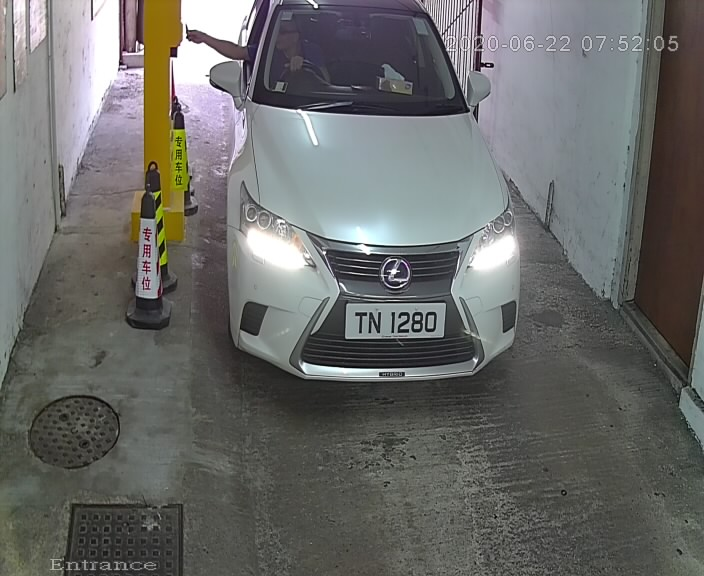privatecar: (199, 2, 542, 410)
